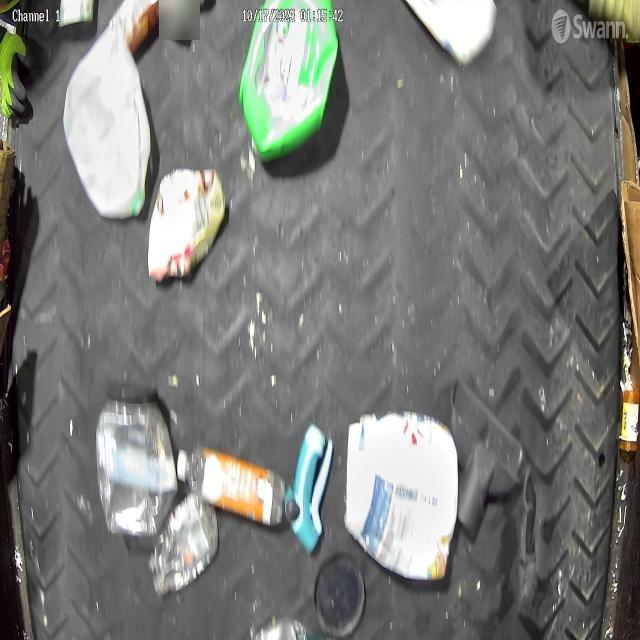milk_jug: (64, 25, 152, 218)
non_white_jug: (240, 0, 338, 161)
plastic_bottle: (146, 490, 218, 597)
